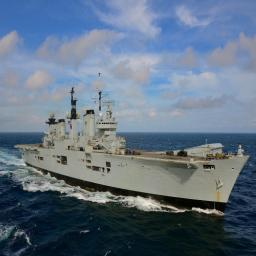Portanaves: (13, 71, 252, 220)
